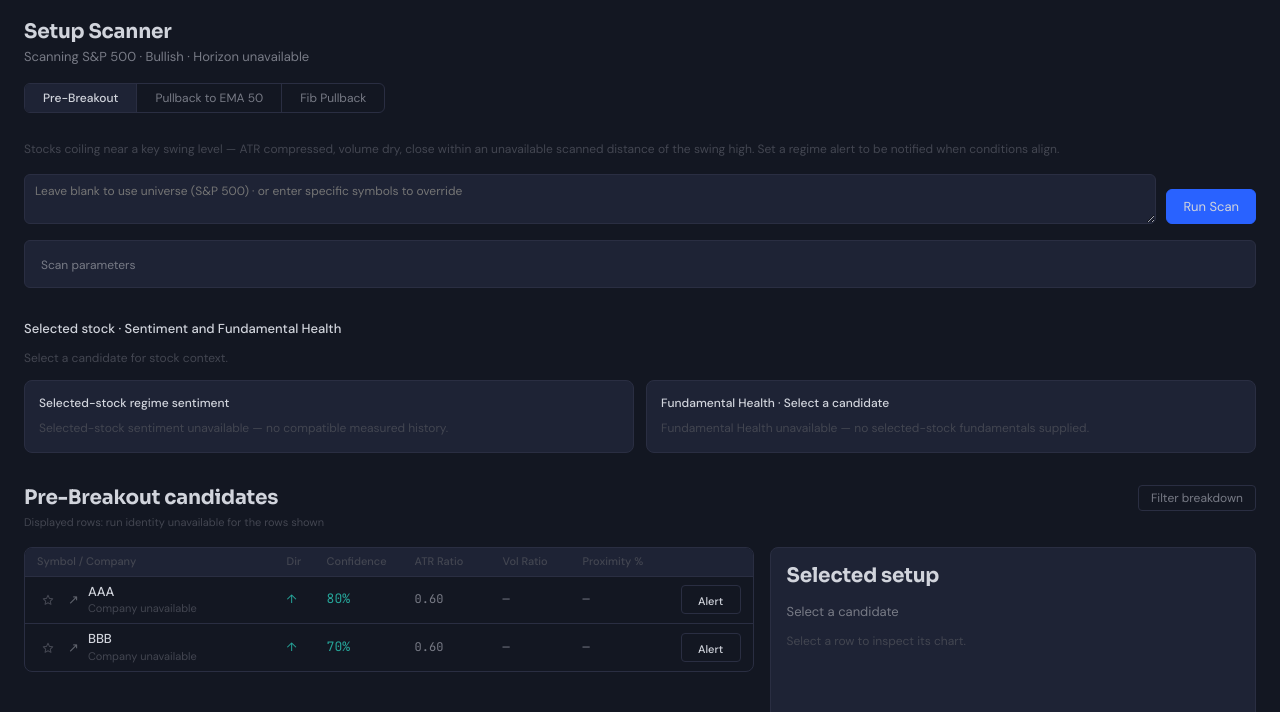
Test case: a fresh scan links the breakdown to the displayed table run
The width and height of the screenshot is (1280, 712).
Click the button "Run Scan" at (1211, 207), box [1166, 189, 1256, 224]
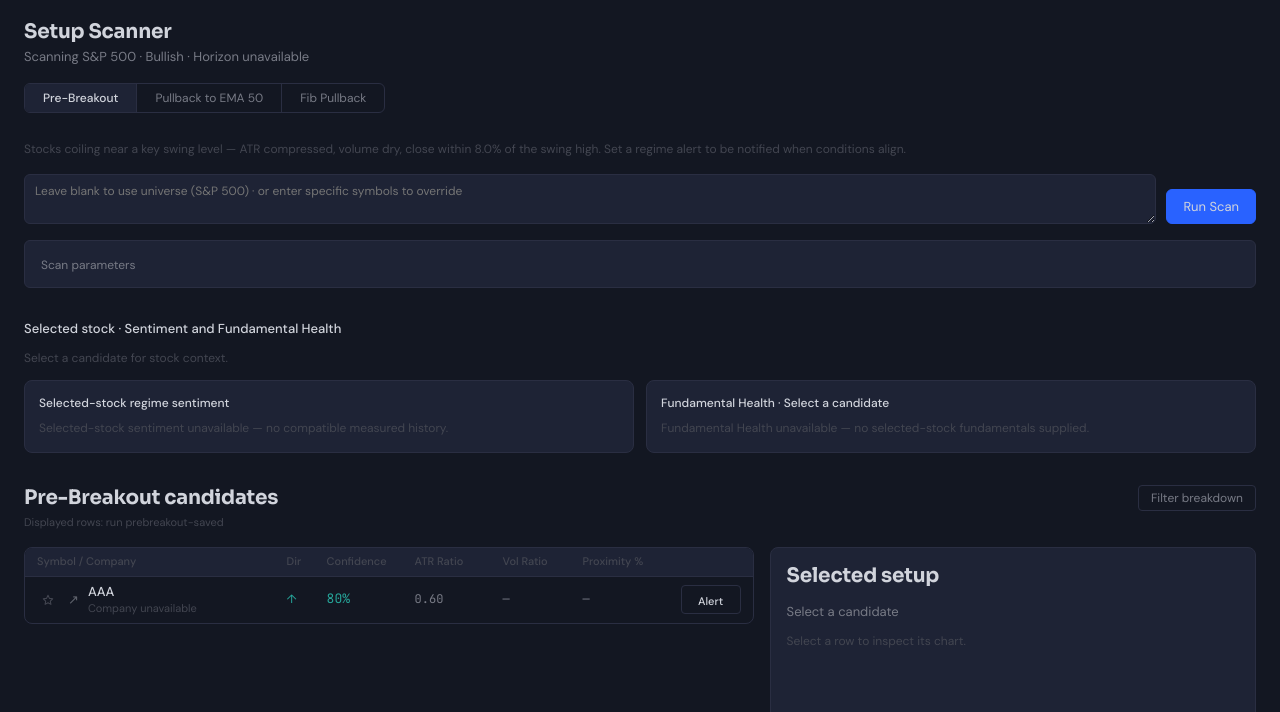
Click the button "Filter breakdown" at (1197, 498), box [1138, 485, 1256, 511]
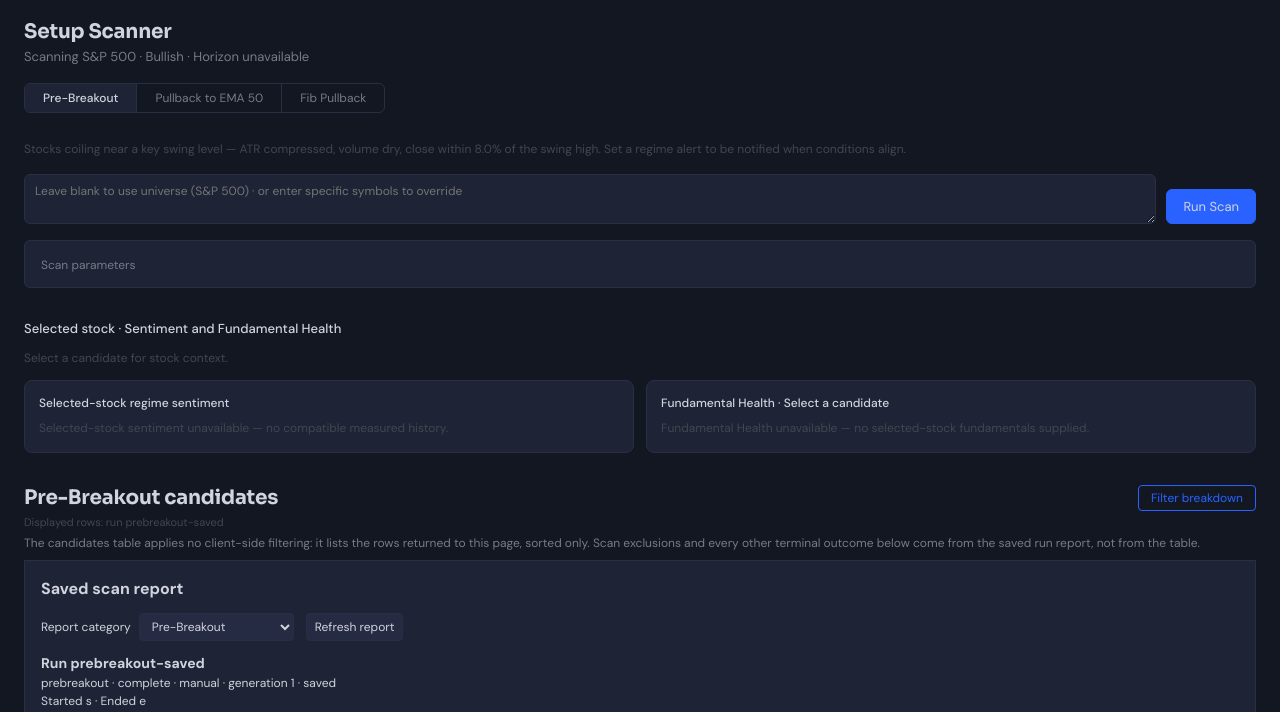
Expected: the text "Displayed rows: run prebreakout-saved" is shown, [24, 515, 224, 529]
Expected: the heading "Run prebreakout-saved" is shown, [41, 654, 205, 672]
